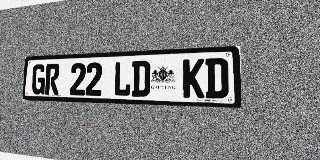2: (85, 62, 102, 96), (70, 63, 86, 95)
D: (205, 58, 228, 99), (131, 60, 150, 97)
G: (31, 64, 46, 95)
K: (183, 59, 204, 98)
L: (113, 61, 132, 96)
R: (45, 64, 60, 95)
